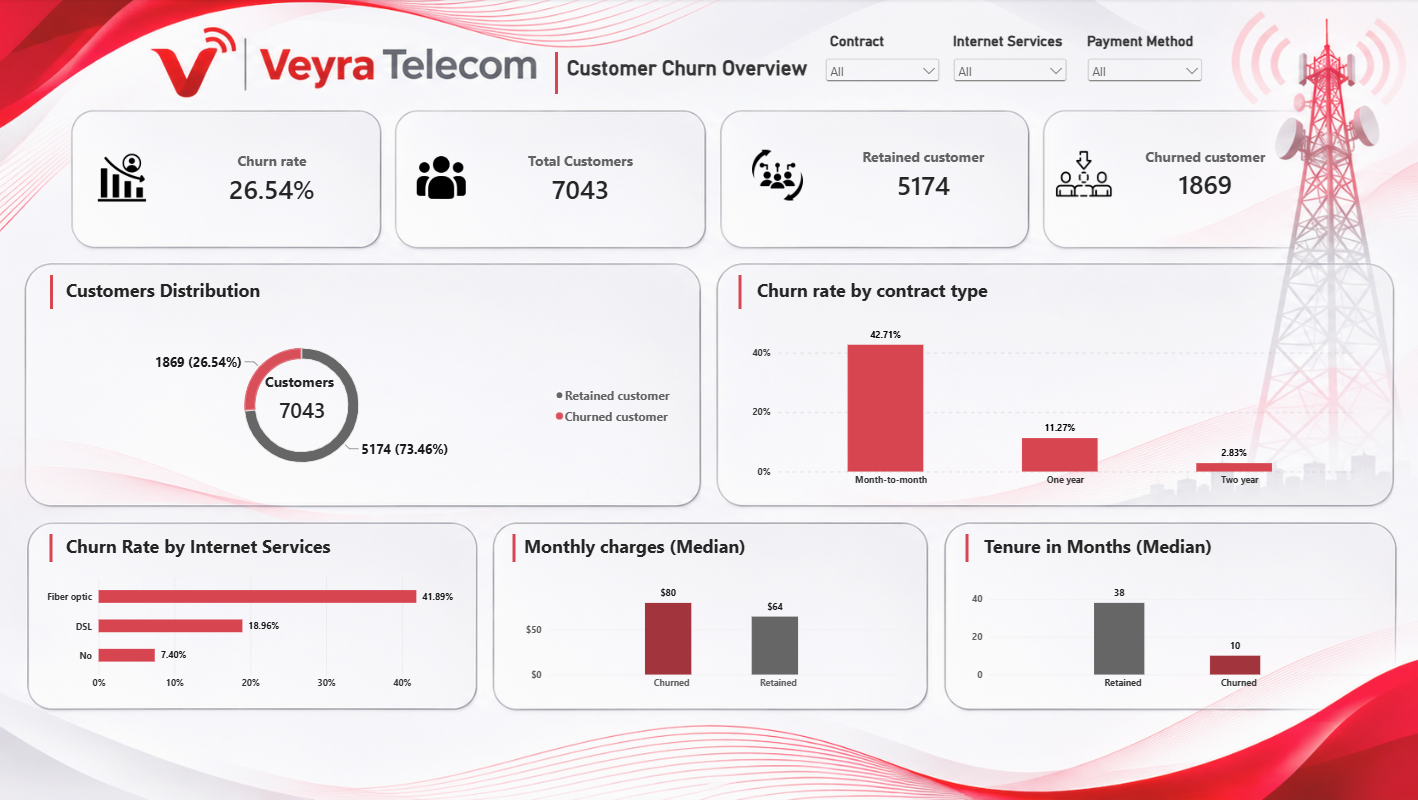

This screenshot's page, from the dashboard's own definition file:
{"tool":"powerbi","page":{"name":"Churn Overview","canvas":[1920,1080],"ordinal":0},"visuals":[{"type":"cardVisual","fields":{"Data":["Measure Table.Churn rate"]},"box":[242.4,175.1,253.2,137.4],"z":0},{"type":"cardVisual","fields":{"Data":["Measure Table.Total Customer"]},"box":[673.3,175.1,222.2,137.4],"z":1000},{"type":"cardVisual","fields":{"Data":["Measure Table.Retained customer"]},"box":[1136.6,169.7,219.5,137.4],"z":2000},{"type":"cardVisual","fields":{"Data":["Measure Table.Churned customer"]},"box":[1525.7,187.2,200.6,101],"z":3000},{"type":"donutChart","fields":{"Y":["Measure Table.Retained customer","Measure Table.Churned customer"]},"box":[48.5,436.3,880.7,226.2],"z":3002},{"type":"textbox","box":[359.6,503.6,102.3,36.4],"z":3003},{"type":"cardVisual","fields":{"Data":["Measure Table.Total Customer"]},"box":[348.8,540,122.5,28.3],"z":3004},{"type":"textbox","box":[91.6,377.1,301.6,37.7],"z":3005},{"type":"shape","box":[37.7,373,68.7,45.8],"z":3006},{"type":"image","box":[562.9,208.7,68.7,66],"z":3007},{"type":"image","box":[129.3,207.4,75.4,68.7],"z":3008},{"type":"image","box":[999.2,202,101,72.7],"z":3009},{"type":"image","box":[1416.7,199.3,91.6,75.4],"z":3010},{"type":"textbox","title":"Customer Churn Overview","box":[766.2,78.1,334,47.1],"z":3011},{"type":"shape","box":[694.9,72.7,114.5,56.6],"z":3012},{"type":"slicer","fields":{"Values":["WA_Fn-UseC_-Telco-Customer-Churn.Contract"]},"box":[1109.6,76.8,162.9,48.5],"z":3013},{"type":"textbox","title":"Contract","box":[1120.4,47.1,92.9,26.9],"z":3014},{"type":"slicer","fields":{"Values":["WA_Fn-UseC_-Telco-Customer-Churn.InternetService"]},"box":[1282,76.8,161.6,47.1],"z":3015},{"type":"textbox","title":"Internet Services","box":[1286,47.1,157.6,26.9],"z":3016},{"type":"columnChart","fields":{"Category":["WA_Fn-UseC_-Telco-Customer-Churn.Contract"],"Y":["Measure Table.Churn rate"]},"box":[999.2,414.8,841.6,263.9],"z":3017},{"type":"textbox","box":[1022.1,377.1,320.5,55.2],"z":3018},{"type":"shape","box":[976.3,373,45.8,45.8],"z":3019},{"type":"clusteredBarChart","fields":{"Category":["WA_Fn-UseC_-Telco-Customer-Churn.InternetService"],"Y":["Measure Table.Churn rate"]},"box":[48.5,759.5,593.9,192.6],"z":3020},{"type":"textbox","box":[91.6,721.8,370.3,37.7],"z":3021},{"type":"shape","box":[48.5,721.8,45.8,37.7],"z":3022},{"type":"clusteredColumnChart","fields":{"Category":["WA_Fn-UseC_-Telco-Customer-Churn.Churn Status"],"Y":["Measure Table.Median Monthly Charges"]},"box":[694.9,767.6,537.3,184.5],"z":3023},{"type":"textbox","box":[708.3,721.8,371.7,37.7],"z":3024},{"type":"shape","box":[672,721.8,45.8,37.7],"z":3025},{"type":"clusteredColumnChart","fields":{"Category":["WA_Fn-UseC_-Telco-Customer-Churn.Churn Status"],"Y":["Measure Table.Median Tenure"]},"box":[1295.5,767.6,571,184.5],"z":3026},{"type":"textbox","box":[1327.8,721.8,327.2,49.8],"z":3027},{"type":"shape","box":[1282,721.8,45.8,37.7],"z":3028},{"type":"slicer","fields":{"Values":["WA_Fn-UseC_-Telco-Customer-Churn.PaymentMethod"]},"box":[1462.4,76.8,164.3,63.3],"z":3029},{"type":"textbox","title":"Payment Method","box":[1466.5,47.1,160.2,22.9],"z":3030}]}

Visuals, with their boxes in screenshot pixels (x1, y1, x2, y2), scaled from the page's 1920x1080 canvas onto the 1418x800 screenshot:
cardVisual - Measure Table.Churn rate: <region>179, 130, 366, 231</region>
cardVisual - Measure Table.Total Customer: <region>497, 130, 661, 231</region>
cardVisual - Measure Table.Retained customer: <region>839, 126, 1002, 227</region>
cardVisual - Measure Table.Churned customer: <region>1127, 139, 1275, 213</region>
donutChart - Measure Table.Retained customer x Measure Table.Churned customer: <region>36, 323, 686, 491</region>
textbox: <region>266, 373, 341, 400</region>
cardVisual - Measure Table.Total Customer: <region>258, 400, 348, 421</region>
textbox: <region>68, 279, 290, 307</region>
shape: <region>28, 276, 79, 310</region>
image: <region>416, 155, 466, 203</region>
image: <region>95, 154, 151, 205</region>
image: <region>738, 150, 813, 203</region>
image: <region>1046, 148, 1114, 203</region>
"Customer Churn Overview" textbox: <region>566, 58, 813, 93</region>
shape: <region>513, 54, 598, 96</region>
slicer - WA_Fn-UseC_-Telco-Customer-Churn.Contract: <region>819, 57, 940, 93</region>
"Contract" textbox: <region>827, 35, 896, 55</region>
slicer - WA_Fn-UseC_-Telco-Customer-Churn.InternetService: <region>947, 57, 1066, 92</region>
"Internet Services" textbox: <region>950, 35, 1066, 55</region>
columnChart - WA_Fn-UseC_-Telco-Customer-Churn.Contract x Measure Table.Churn rate: <region>738, 307, 1360, 503</region>
textbox: <region>755, 279, 992, 320</region>
shape: <region>721, 276, 755, 310</region>
clusteredBarChart - WA_Fn-UseC_-Telco-Customer-Churn.InternetService x Measure Table.Churn rate: <region>36, 563, 474, 705</region>
textbox: <region>68, 535, 341, 563</region>
shape: <region>36, 535, 70, 563</region>
clusteredColumnChart - WA_Fn-UseC_-Telco-Customer-Churn.Churn Status x Measure Table.Median Monthly Charges: <region>513, 569, 910, 705</region>
textbox: <region>523, 535, 798, 563</region>
shape: <region>496, 535, 530, 563</region>
clusteredColumnChart - WA_Fn-UseC_-Telco-Customer-Churn.Churn Status x Measure Table.Median Tenure: <region>957, 569, 1378, 705</region>
textbox: <region>981, 535, 1222, 572</region>
shape: <region>947, 535, 981, 563</region>
slicer - WA_Fn-UseC_-Telco-Customer-Churn.PaymentMethod: <region>1080, 57, 1201, 104</region>
"Payment Method" textbox: <region>1083, 35, 1201, 52</region>
